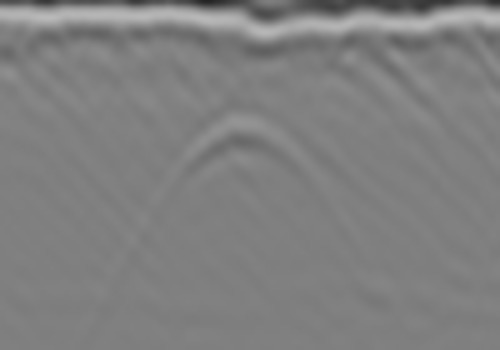hyperbola: (94, 111, 382, 336)
